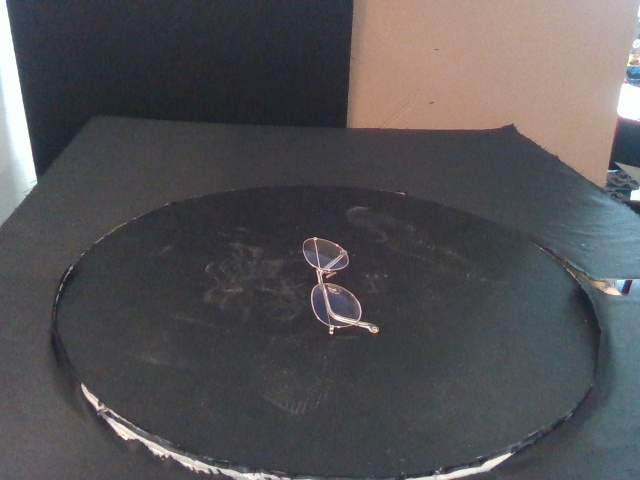glasses: (303, 237, 378, 336)
